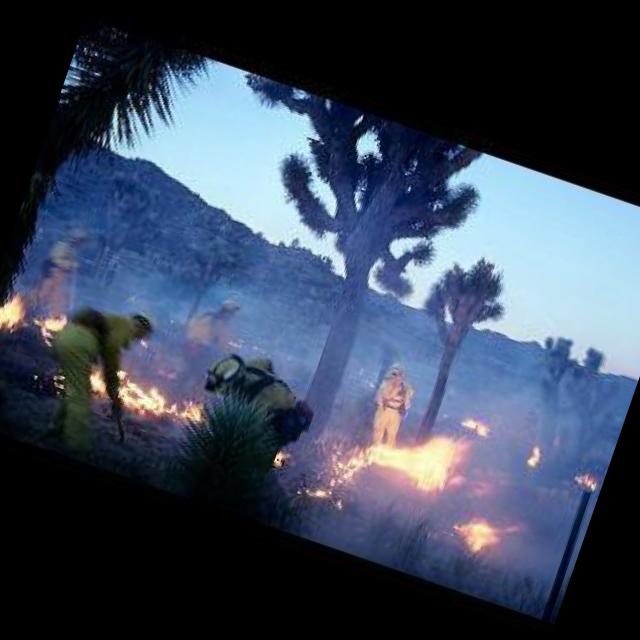fire: (0, 277, 545, 564)
